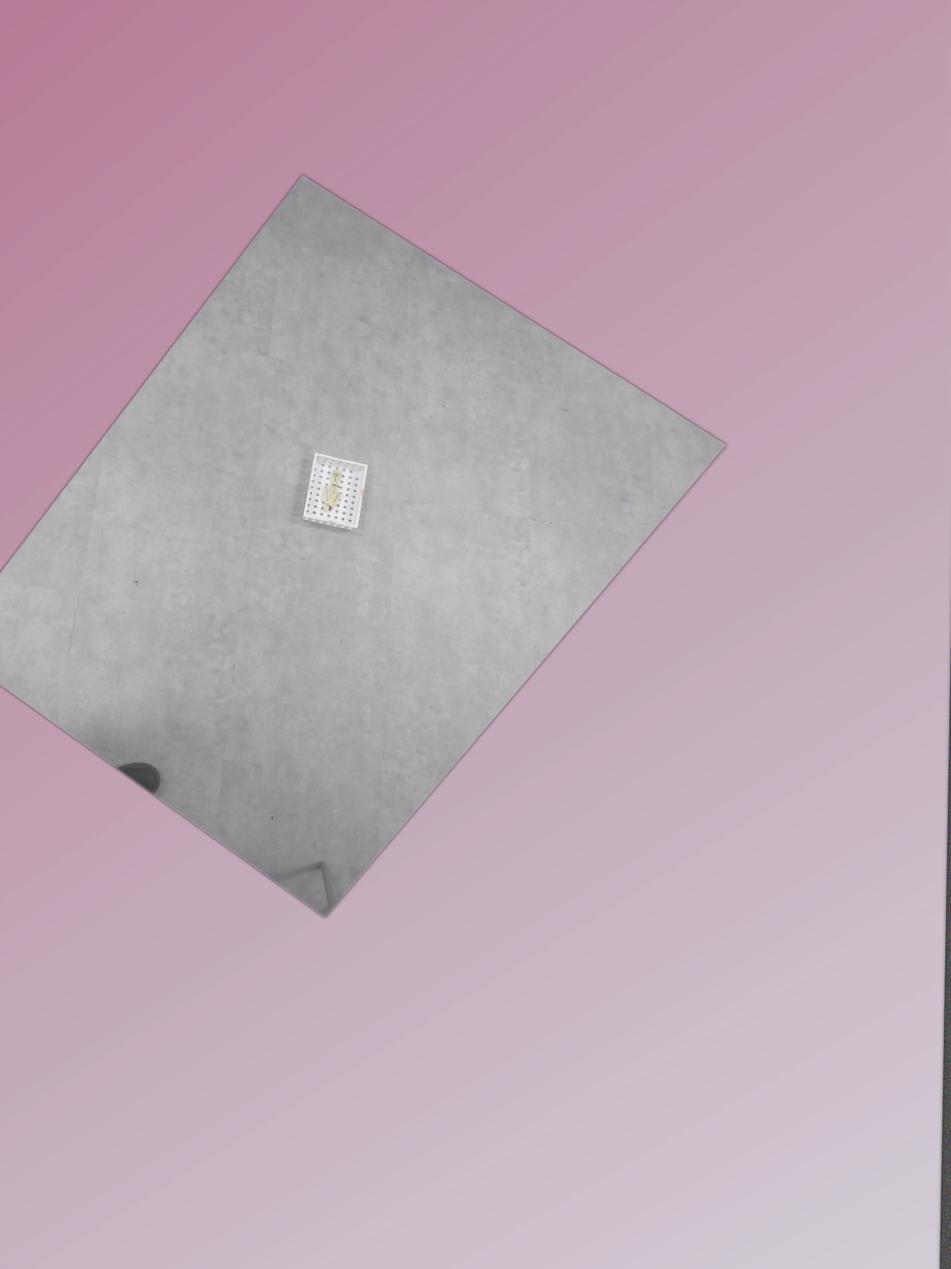basket: (300, 450, 370, 533)
mannequin: (321, 468, 345, 513)
